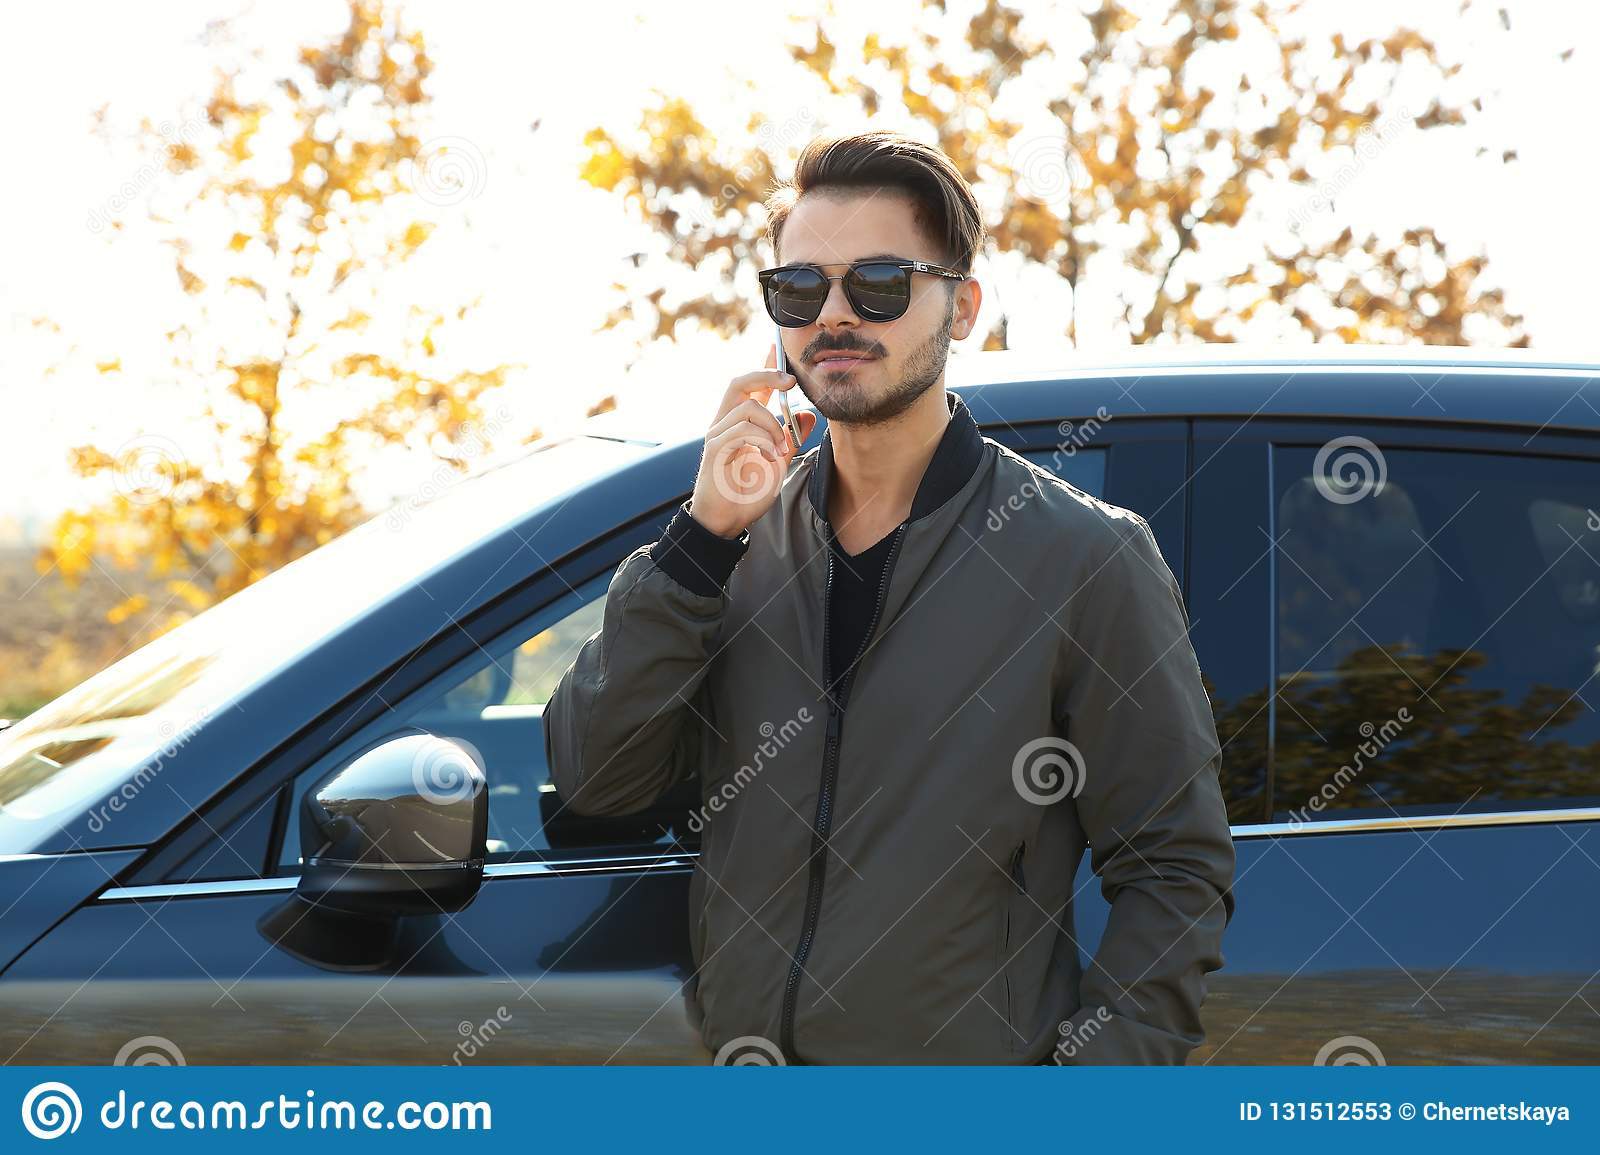phone: (758, 294, 809, 453)
talk: (697, 243, 930, 525)
